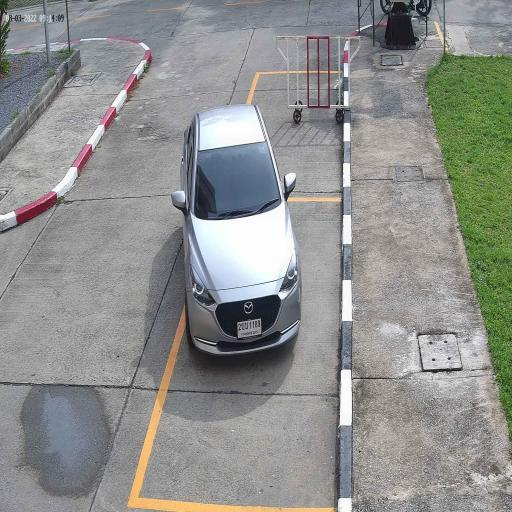car: (180, 104, 302, 355)
